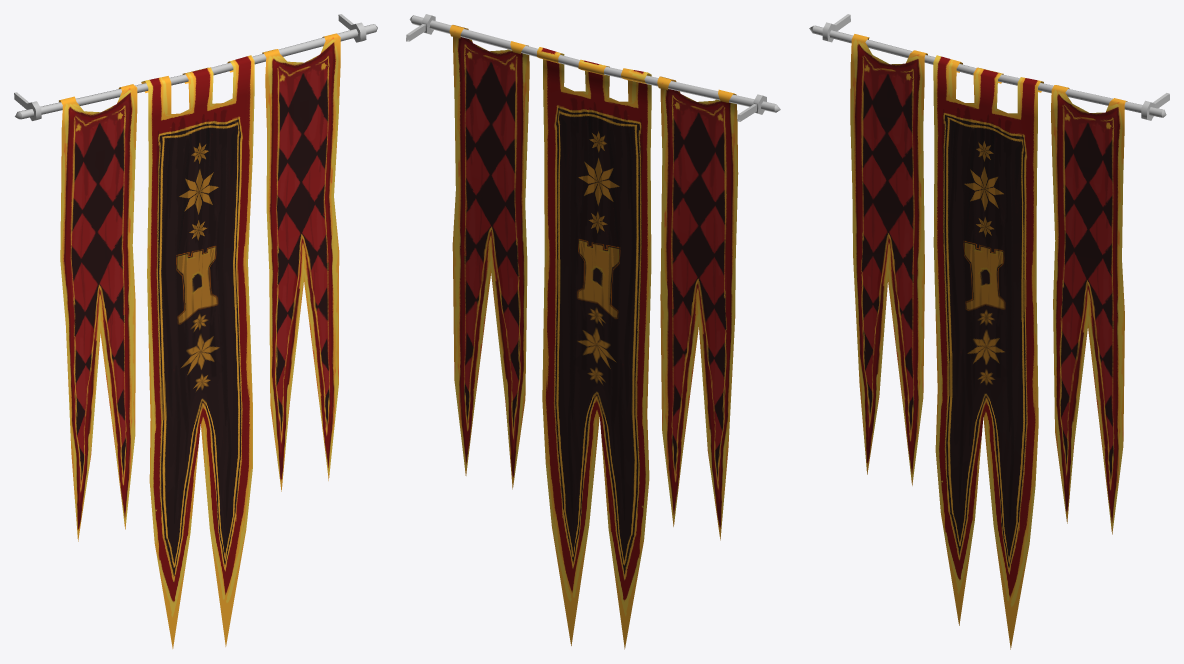
Rendered from SM_PROP_flag_city_06.fbx.
3 views of the same model, side by side, from view 1: azimuth 30°, elevation 25°; view 2: azimuth 150°, elevation 25°; view 3: azimuth 330°, elevation 25° (orthographic). The views are drawn at different scales.
Visible parts, largest first — view 1: SM_PROP_flag_city_06; view 2: SM_PROP_flag_city_06; view 3: SM_PROP_flag_city_06.
Part boxes in pixels (<box>): SM_PROP_flag_city_06: <box>14,14,377,648</box>; SM_PROP_flag_city_06: <box>406,14,780,649</box>; SM_PROP_flag_city_06: <box>809,14,1169,649</box>.
Bounding box in the file's own units: 358 × 555 × 41.66.
